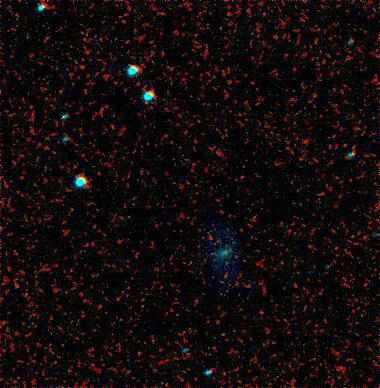star: (247, 297, 277, 327)
